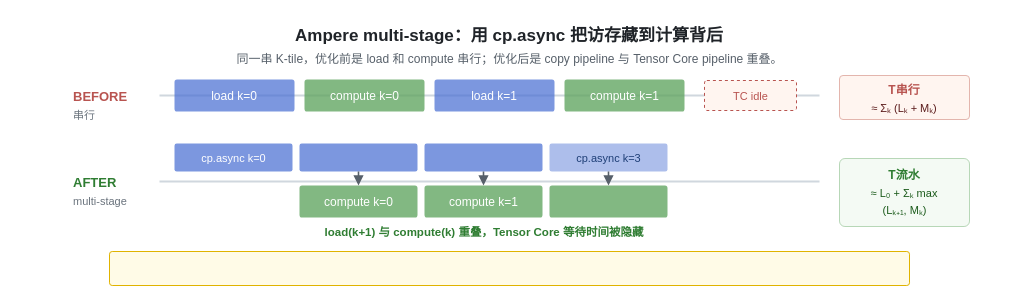
The diagram is 1018 pixels wide and 303 high, and some of its shapes have lost their labels. Each missing label, with the centre of its shape:
compute k=2: point 608,201
cp.async k=1: point 358,157
cp.async k=2: point 483,157
cp.async 是 Ampere 的异步 copy 原语；Hopper TMA 与 Blackwell tcgen05.cp 都沿着同一条思路继续扩展。: point 509,268
